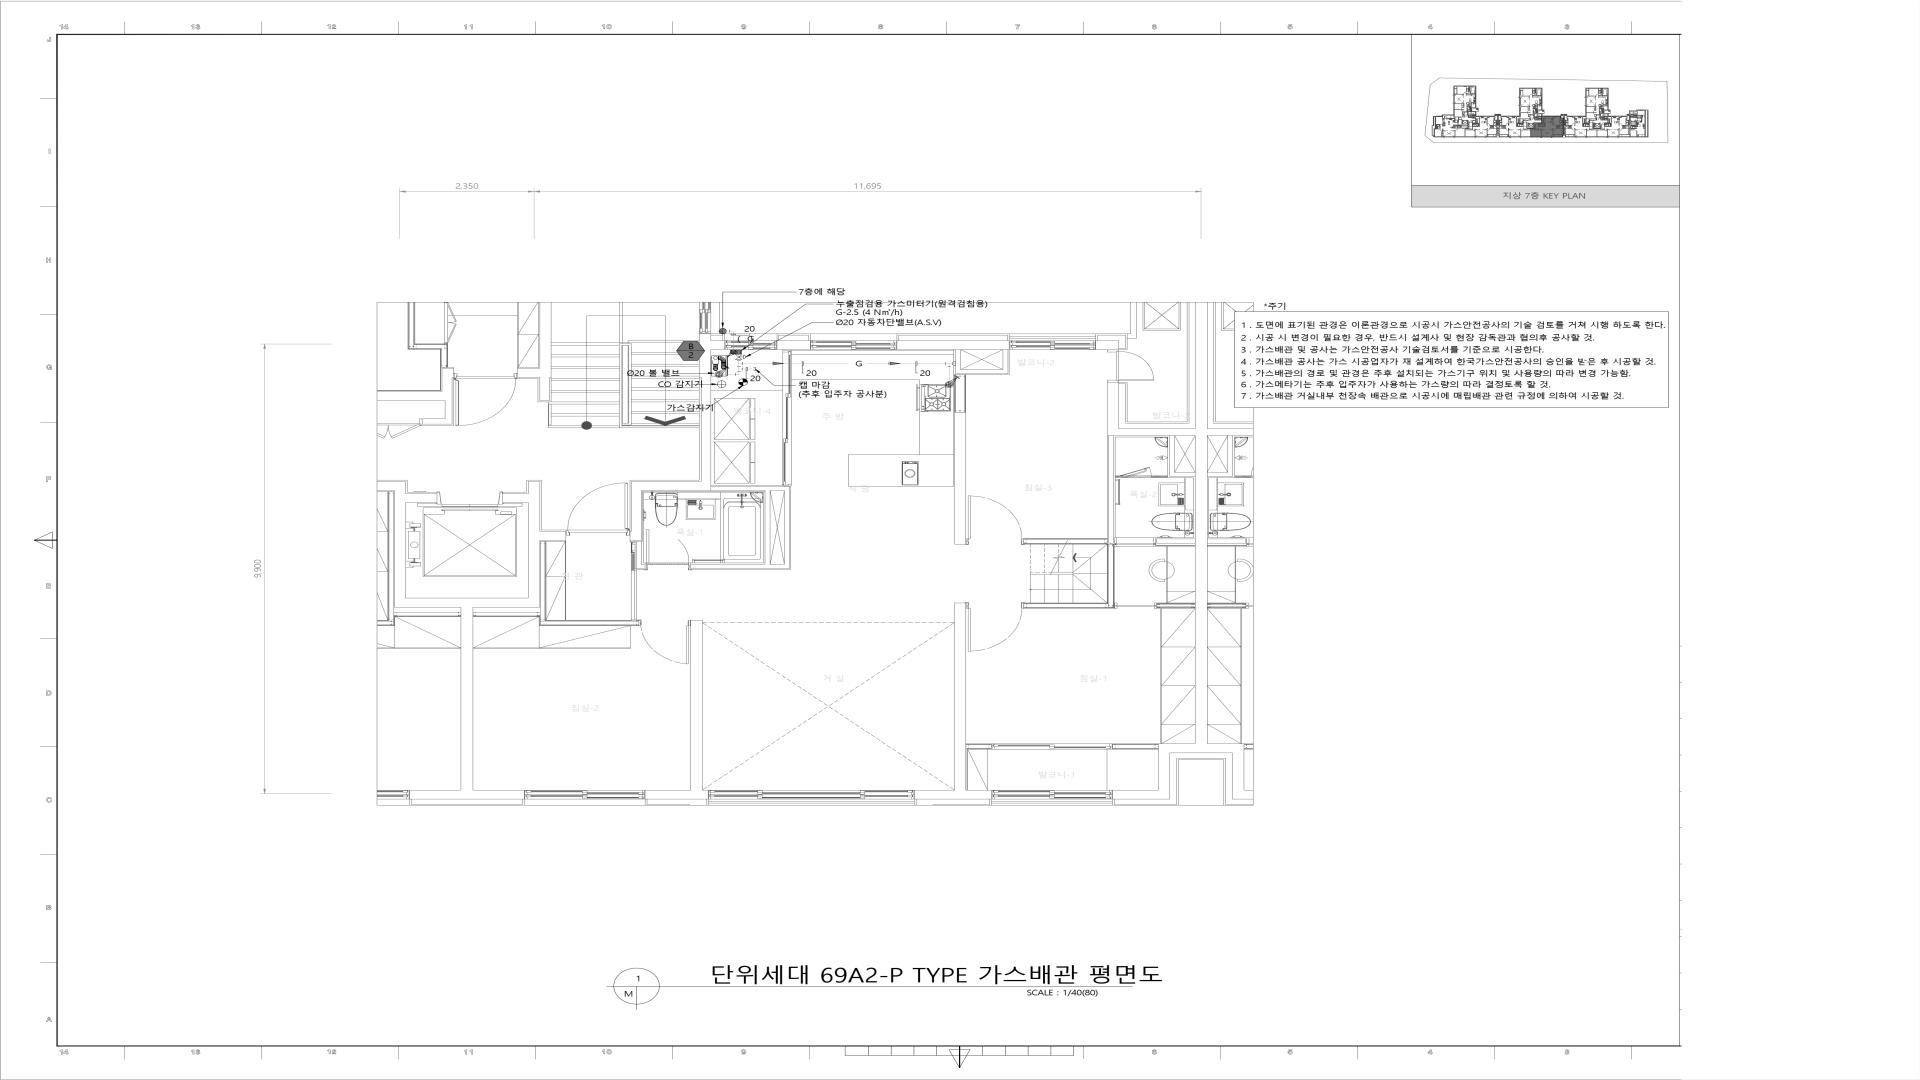door: (567, 483, 630, 535), (967, 496, 1023, 545), (967, 603, 1023, 651), (638, 620, 690, 663), (644, 529, 690, 570), (1108, 349, 1154, 382), (630, 541, 637, 621), (1114, 603, 1195, 609), (1114, 538, 1156, 547)
wall: (1195, 302, 1208, 744), (460, 597, 473, 790), (955, 603, 967, 790), (691, 620, 703, 790), (699, 334, 711, 491), (953, 413, 967, 545), (527, 481, 541, 597), (394, 481, 406, 597), (538, 302, 551, 402), (897, 340, 1010, 351), (1106, 435, 1116, 545), (914, 790, 992, 799), (473, 597, 539, 608), (394, 597, 460, 608), (1106, 382, 1120, 435), (377, 392, 452, 401), (629, 491, 642, 541), (1158, 744, 1170, 799), (629, 481, 700, 491), (1023, 603, 1114, 609), (634, 790, 698, 799), (451, 790, 514, 799), (1023, 538, 1108, 545), (690, 564, 790, 570), (539, 621, 638, 626), (539, 542, 546, 621), (953, 375, 967, 413), (1120, 429, 1195, 435), (1112, 790, 1158, 799), (785, 491, 790, 564), (765, 491, 770, 564), (1108, 545, 1114, 603), (777, 340, 811, 351), (1170, 744, 1208, 753), (473, 612, 539, 617), (711, 487, 791, 491), (1156, 538, 1195, 546), (406, 493, 436, 502), (539, 531, 567, 541), (442, 368, 452, 392), (1112, 744, 1158, 749), (1168, 435, 1175, 472), (502, 493, 527, 502), (960, 369, 1002, 375), (1096, 340, 1120, 349), (1130, 302, 1137, 334), (517, 368, 538, 377), (444, 401, 452, 425), (953, 349, 960, 375), (1002, 349, 1009, 375), (636, 541, 641, 568), (965, 744, 992, 749), (1168, 472, 1195, 477), (711, 340, 725, 349), (1127, 334, 1137, 339), (1151, 476, 1168, 477), (641, 564, 644, 568)
window: (708, 790, 914, 799), (782, 349, 791, 487), (514, 790, 634, 799), (992, 790, 1112, 799), (811, 340, 897, 351), (1010, 340, 1096, 349), (992, 744, 1112, 749), (725, 340, 777, 349), (699, 302, 711, 334)
